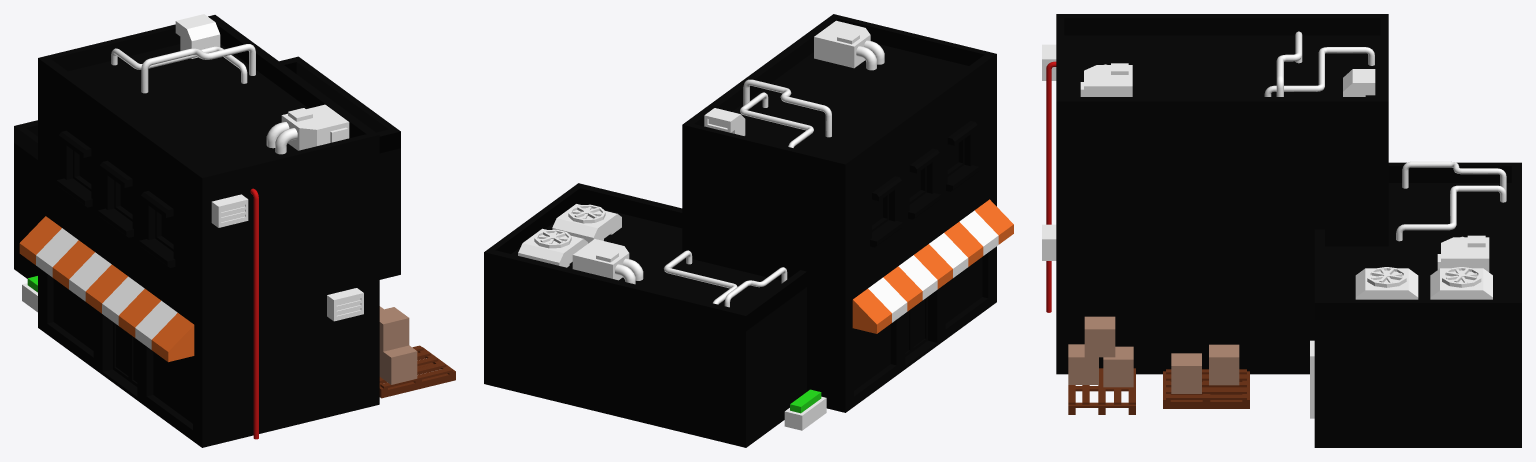
The model's file is General_Store_03.FBX.
3 views of the same model, side by side, from view 1: azimuth 30°, elevation 25°; view 2: azimuth 150°, elevation 25°; view 3: azimuth 270°, elevation 25° (orthographic). The views are drawn at different scales.
Visible parts, largest first — view 1: General_Store_03; view 2: General_Store_03; view 3: General_Store_03.
Part boxes in pixels (box(x1,y1,x2,y2)): General_Store_03: box(14, 14, 455, 447); General_Store_03: box(484, 14, 1013, 447); General_Store_03: box(1042, 14, 1521, 447).
Size of the model in its own units: 23.5 by 18.13 by 27.36.
